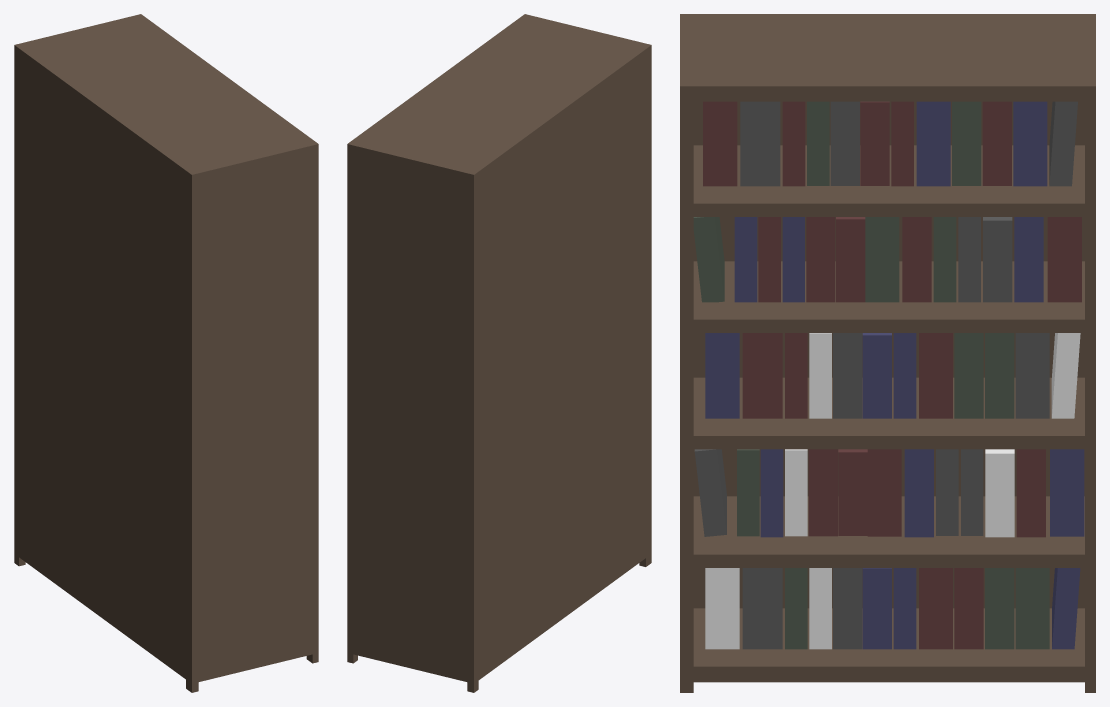
File: prop export - bookshelf 1.fbx
The picture shows the model from 3 angles, left to right: view 1: azimuth 30°, elevation 25°; view 2: azimuth 150°, elevation 25°; view 3: azimuth 270°, elevation 25°; orthographic projection. The views are drawn at different scales.
Visible parts, largest first — view 1: pCube5; view 2: pCube5; view 3: pCube5, pCube52, pCube7, pCube65, pCube44, pCube48, pCube31, pCube35, pCube18, pCube24, pCube6, pCube13 (+51 smaller).
Boxes of the visible parts, x1,y1,x2,y2 form: pCube5: (14,14,318,692); pCube5: (347,14,651,692); pCube5: (680,14,1095,692); pCube52: (742,333,782,418); pCube7: (740,101,780,186); pCube65: (742,568,782,649); pCube44: (1050,449,1084,536); pCube48: (867,449,901,536); pCube31: (1015,333,1049,418); pCube35: (705,333,739,418); pCube18: (1047,217,1081,302); pCube24: (865,217,899,302); pCube6: (703,101,737,186); pCube13: (916,101,950,186).
Size of the model in its own units: 35.72 by 139 by 86.65.
